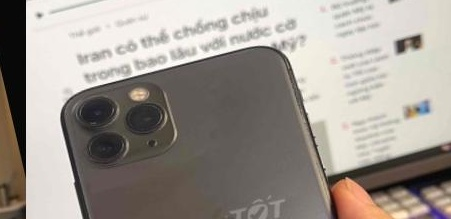scratch: (70, 76, 176, 165), (279, 47, 330, 186)
